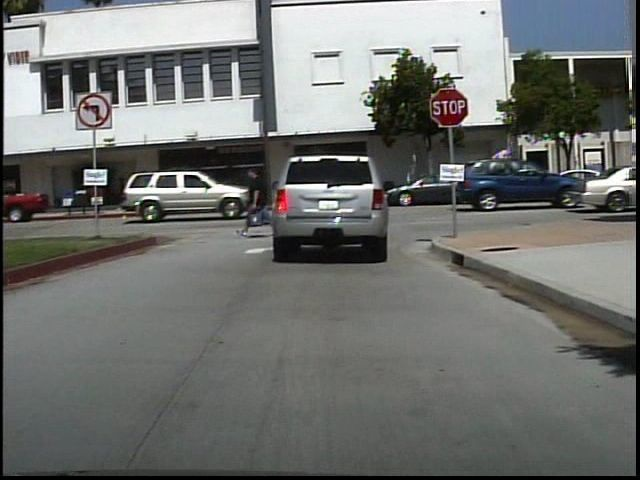person: (243, 160, 276, 237), (114, 171, 137, 210), (140, 171, 160, 209)
